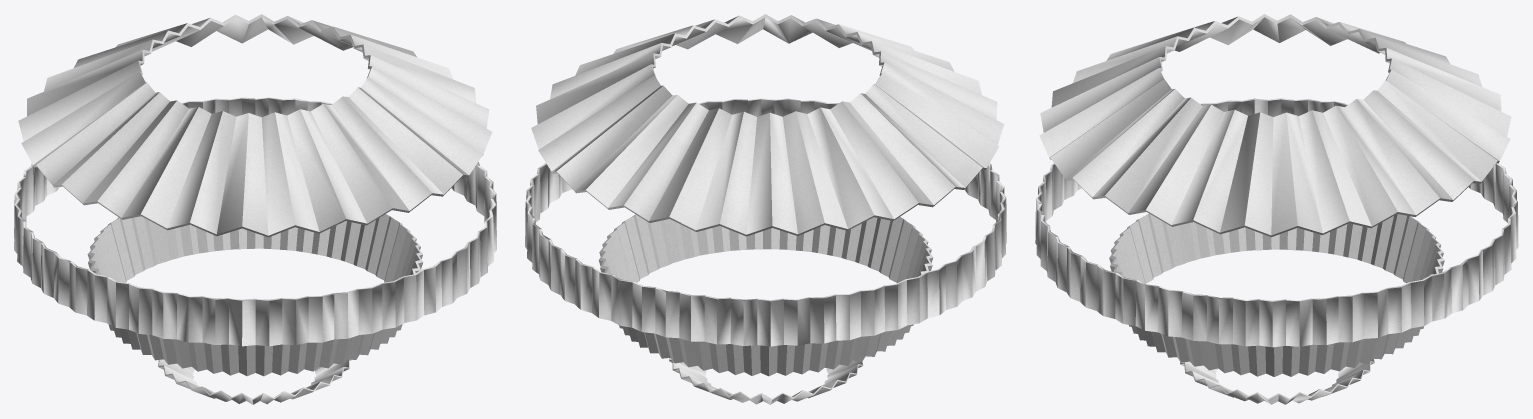
File: Couronne1_New.gltf
3 views of the same model, side by side, from view 1: azimuth 30°, elevation 25°; view 2: azimuth 150°, elevation 25°; view 3: azimuth 270°, elevation 25° (orthographic).
Parts seen in each view (by area): view 1: Couronne_1.001, Couronne_1.003, Couronne_1, Couronne_1.005; view 2: Couronne_1.001, Couronne_1.003, Couronne_1, Couronne_1.005; view 3: Couronne_1.001, Couronne_1.003, Couronne_1, Couronne_1.005.
Part boxes in pixels (left/top/right/bottom): Couronne_1.001: left=18, top=14, right=492, bottom=237; Couronne_1.003: left=14, top=97, right=496, bottom=346; Couronne_1: left=87, top=214, right=423, bottom=376; Couronne_1.005: left=158, top=359, right=351, bottom=404; Couronne_1.001: left=531, top=14, right=1004, bottom=236; Couronne_1.003: left=525, top=98, right=1006, bottom=346; Couronne_1: left=598, top=214, right=933, bottom=376; Couronne_1.005: left=669, top=358, right=863, bottom=404; Couronne_1.001: left=1039, top=14, right=1511, bottom=237; Couronne_1.003: left=1035, top=98, right=1518, bottom=347; Couronne_1: left=1109, top=213, right=1444, bottom=376; Couronne_1.005: left=1180, top=358, right=1374, bottom=404.
Size of the model in its own units: 129 by 93.18 by 129.
Materials: 1 (1 with a texture image).
